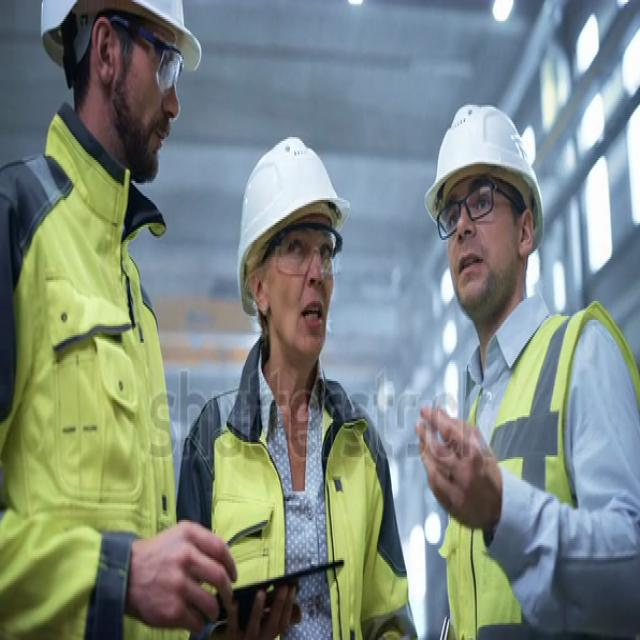Glasses: (93, 14, 183, 98), (435, 176, 517, 244), (270, 223, 344, 277)
Helmet: (235, 129, 356, 287), (427, 97, 549, 221), (50, 0, 206, 72)
Vest: (5, 125, 177, 640), (440, 295, 639, 640), (181, 357, 411, 640)
